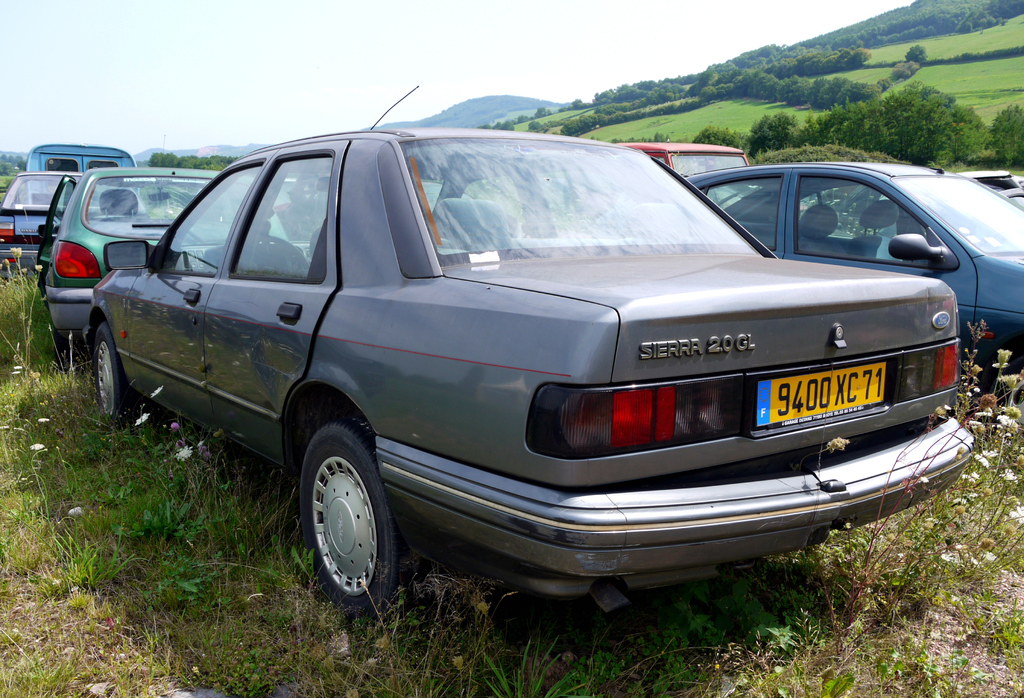license plate: (748, 381, 885, 432)
